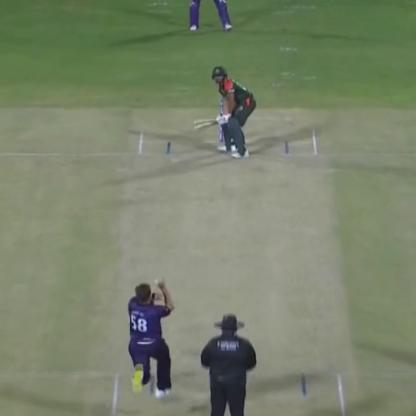bat: (183, 112, 225, 140)
pitch: (117, 132, 346, 416)
